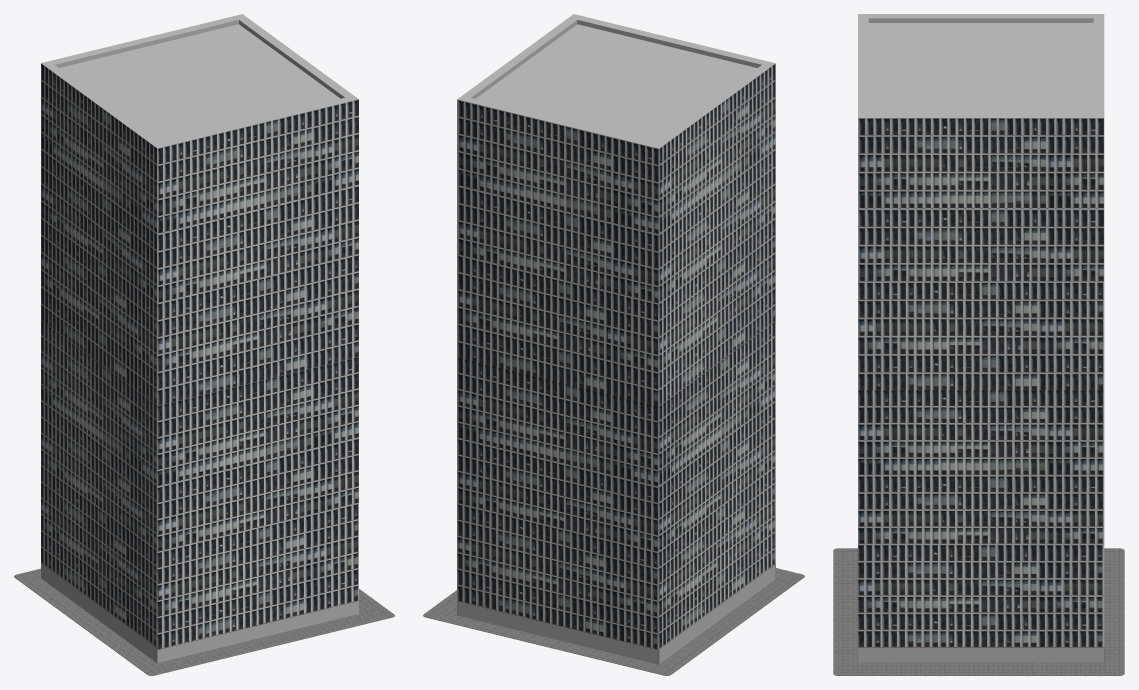
Rendered from Building 4.FBX.
3 renders of one model, left to right at view 1: azimuth 30°, elevation 25°; view 2: azimuth 150°, elevation 25°; view 3: azimuth 270°, elevation 25°, orthographic. The views are drawn at different scales.
Parts seen in each view (by area): view 1: Building 4; view 2: Building 4; view 3: Building 4.
Boxes of the visible parts, x1,y1,x2,y2 form: Building 4: [14, 14, 394, 675]; Building 4: [423, 14, 804, 675]; Building 4: [833, 14, 1124, 675].
Bounding box in the file's own units: 42846 × 85446 × 41408.
2 materials, 2 textured.
